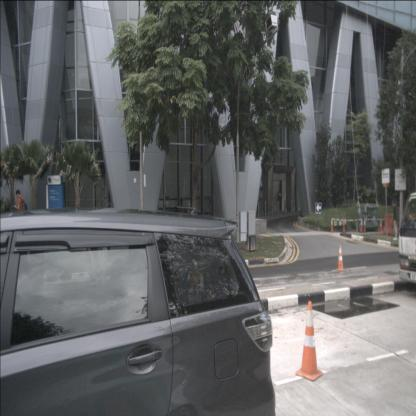barrier: (384, 214, 394, 234)
cone: (296, 300, 324, 382), (336, 243, 346, 272), (330, 217, 335, 234), (378, 218, 382, 232), (363, 219, 367, 233), (360, 218, 363, 232), (342, 218, 345, 232)
